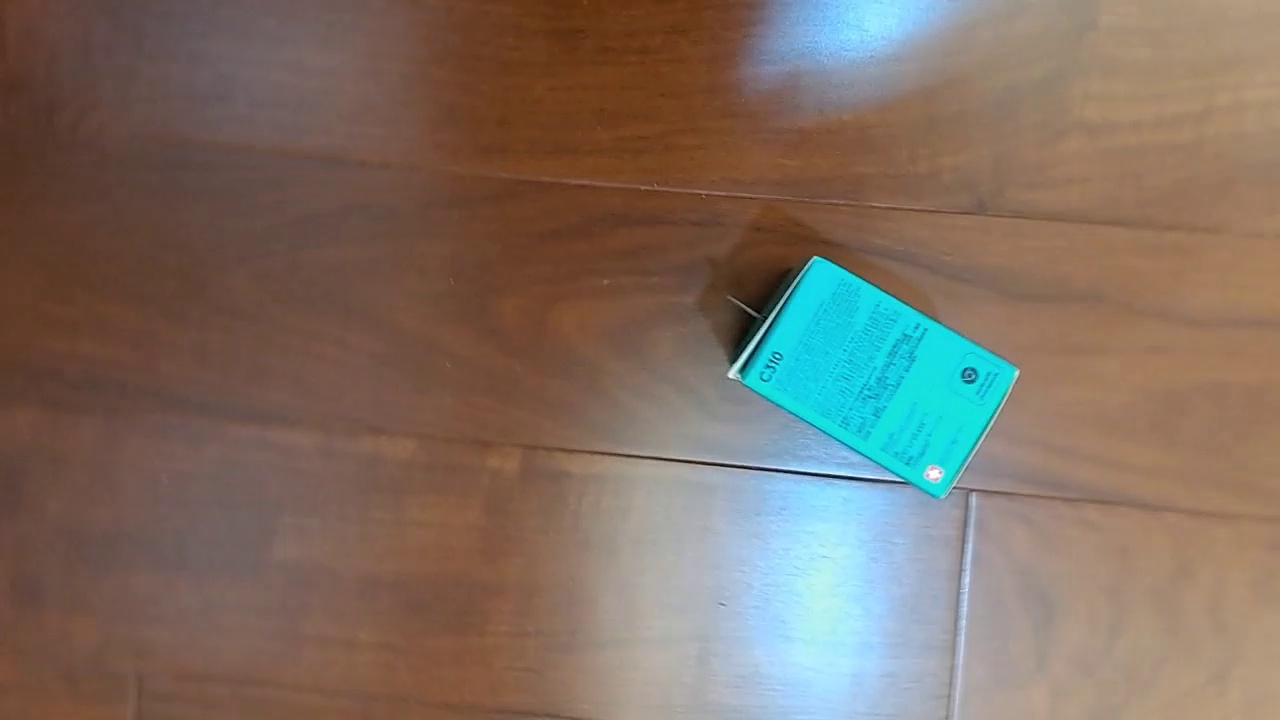webcam: (726, 255, 1021, 500)
